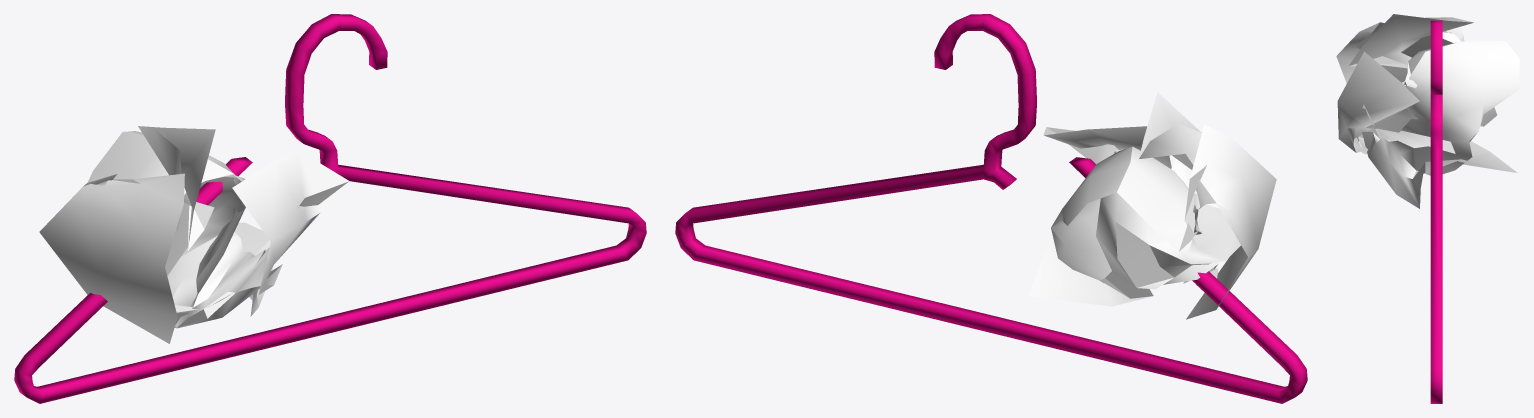
Rendered from CompleteTrash.fbx.
3 views of the same model, side by side, from view 1: azimuth 30°, elevation 25°; view 2: azimuth 150°, elevation 25°; view 3: azimuth 270°, elevation 25° (orthographic). The views are drawn at different scales.
Visible parts, largest first — view 1: CompleteTrash; view 2: CompleteTrash; view 3: CompleteTrash.
Part boxes in pixels (box(x1,y1,x2,y2)): CompleteTrash: box(14, 14, 646, 403); CompleteTrash: box(675, 14, 1307, 403); CompleteTrash: box(1336, 14, 1519, 403).
Size of the model in its own units: 446 by 213 by 135.
